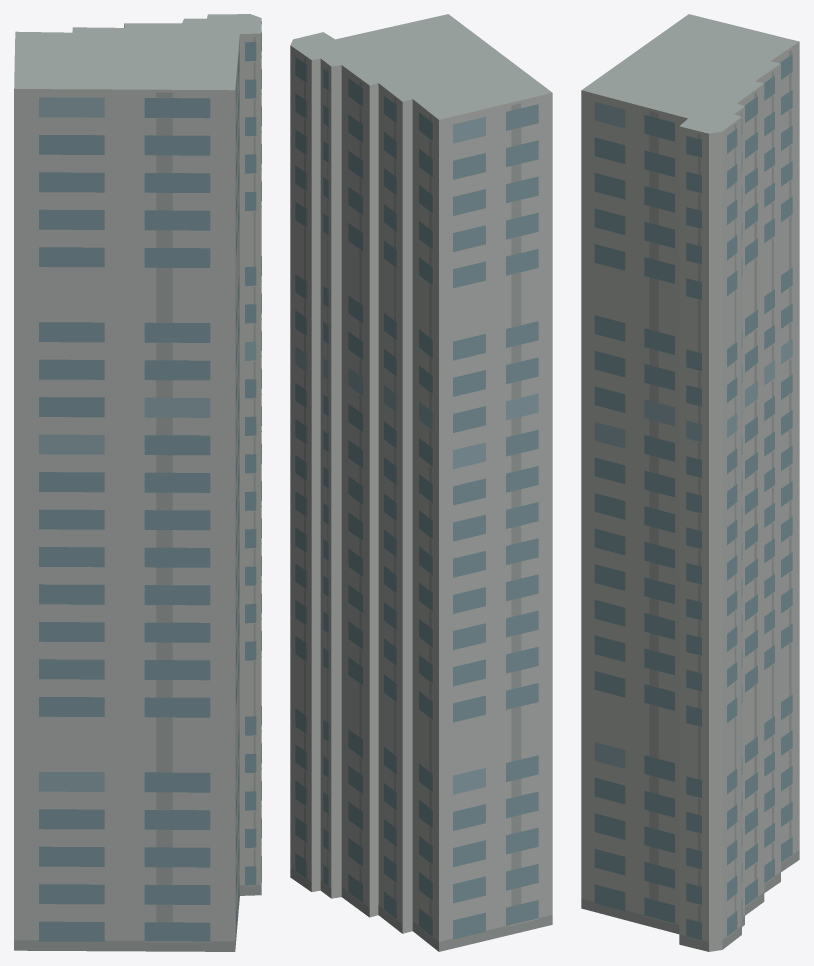
File: survey-upis-32893870.glb
3 renders of one model, left to right at view 1: azimuth 30°, elevation 25°; view 2: azimuth 150°, elevation 25°; view 3: azimuth 270°, elevation 25°, orthographic. The views are drawn at different scales.
Parts seen in each view (by area): view 1: survey-upis-32893870.tmp; view 2: survey-upis-32893870.tmp; view 3: survey-upis-32893870.tmp.
Boxes of the visible parts, box(x1,y1,x2,y2) form: survey-upis-32893870.tmp: box(14, 14, 261, 951); survey-upis-32893870.tmp: box(290, 14, 552, 951); survey-upis-32893870.tmp: box(581, 14, 799, 951).
Bounding box in the file's own units: 22.01 × 70.15 × 16.95.
